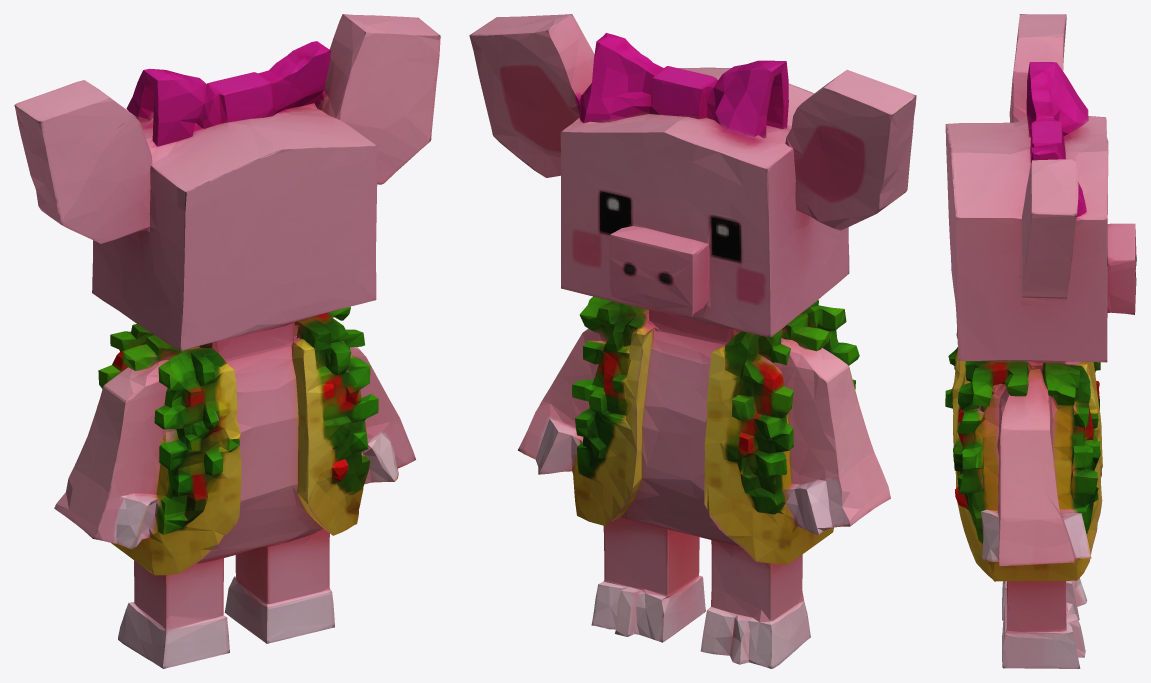
File: PorcelliniTacolini.glb
3 views of the same model, side by side, from view 1: azimuth 30°, elevation 25°; view 2: azimuth 150°, elevation 25°; view 3: azimuth 270°, elevation 25° (orthographic). The views are drawn at different scales.
Parts seen in each view (by area): view 1: geometry_0; view 2: geometry_0; view 3: geometry_0.
Part boxes in pixels (bbox=[...]): geometry_0: bbox=[14, 14, 440, 668]; geometry_0: bbox=[469, 14, 916, 668]; geometry_0: bbox=[945, 14, 1136, 668].
Size of the model in its own units: 0.7436 by 1 by 0.3247.
Materials: 1 (1 with a texture image).
